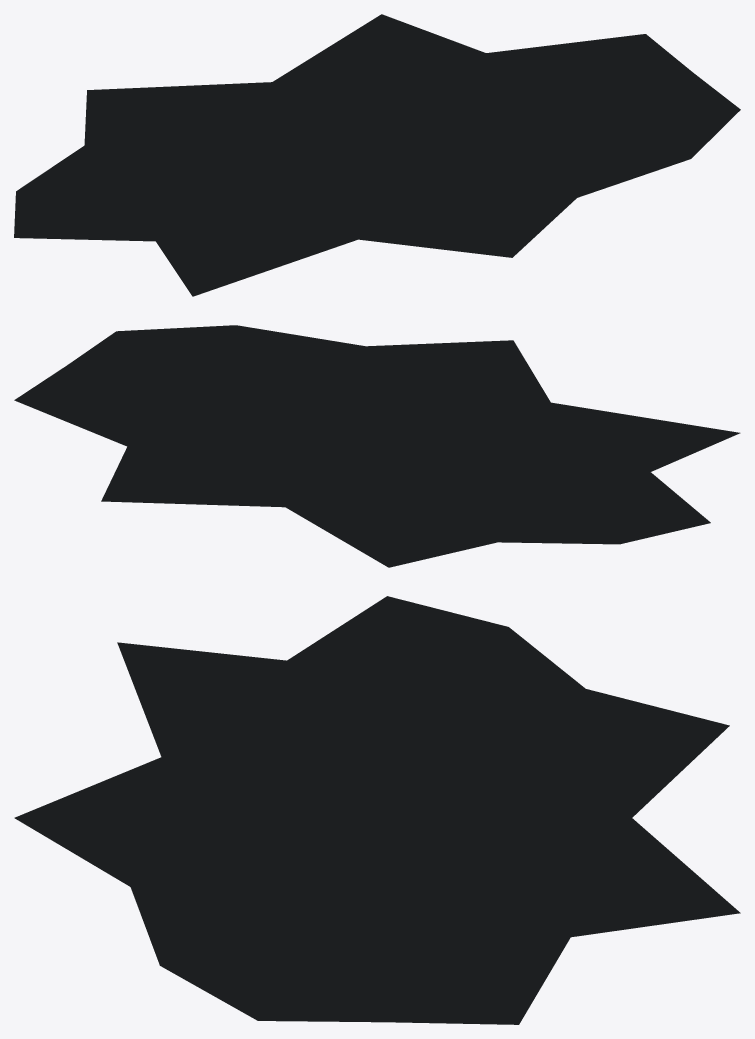
Rendered from OilPuddle.fbx.
3 views of the same model, one above another, from view 1: azimuth 30°, elevation 25°; view 2: azimuth 150°, elevation 25°; view 3: azimuth 270°, elevation 25° (orthographic). The views are drawn at different scales.
Parts seen in each view (by area): view 1: OilPuddle; view 2: OilPuddle; view 3: OilPuddle.
Part boxes in pixels (left/top/right/bottom): OilPuddle: left=14, top=14, right=740, bottom=296; OilPuddle: left=14, top=325, right=740, bottom=567; OilPuddle: left=14, top=596, right=740, bottom=1024.
Size of the model in its own units: 143 by 1.67e-05 by 102.
Materials: 1 (1 with a texture image).
